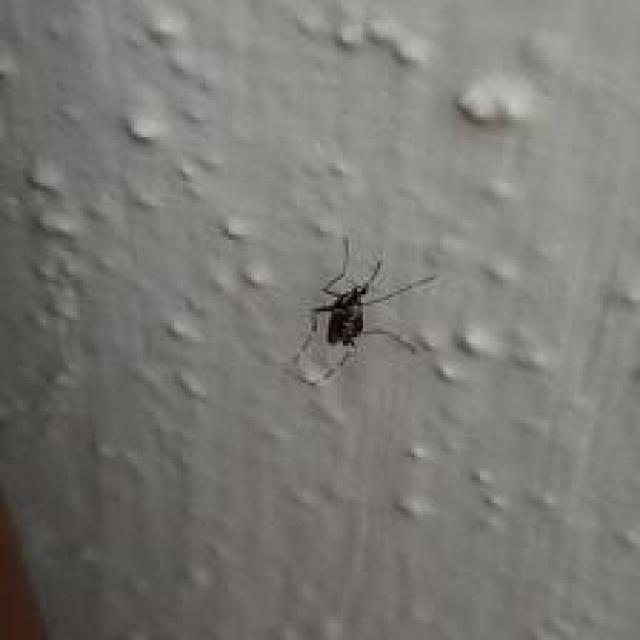Aedes albopictus: (292, 234, 437, 389)
